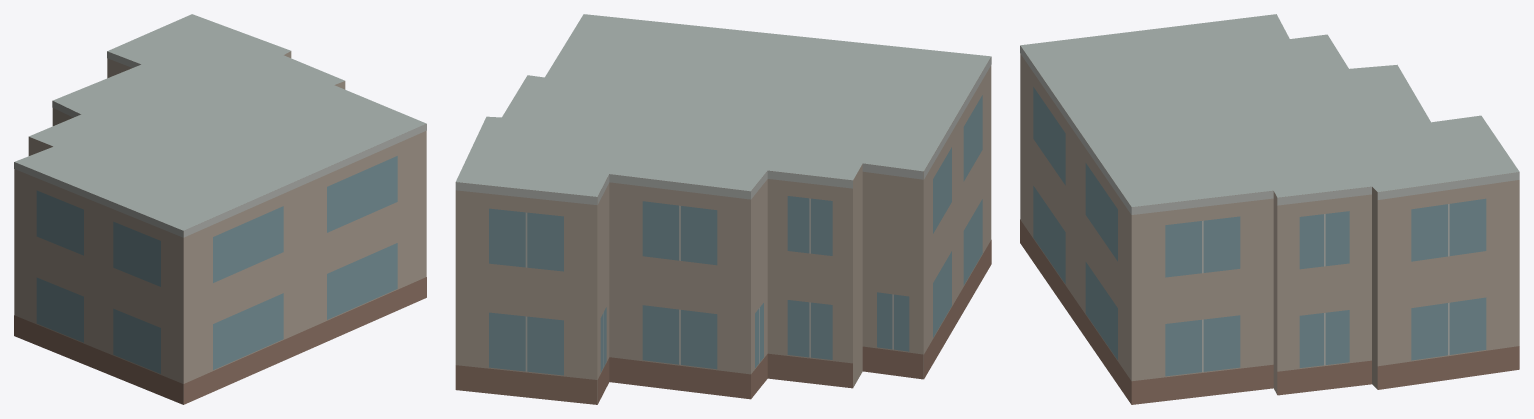
The model's file is survey-upis-32509038.glb.
3 renders of one model, left to right at view 1: azimuth 30°, elevation 25°; view 2: azimuth 150°, elevation 25°; view 3: azimuth 270°, elevation 25°, orthographic. The views are drawn at different scales.
Visible parts, largest first — view 1: survey-upis-32509038.tmp; view 2: survey-upis-32509038.tmp; view 3: survey-upis-32509038.tmp.
Boxes of the visible parts, x1,y1,x2,y2 form: survey-upis-32509038.tmp: (14,14,426,404); survey-upis-32509038.tmp: (455,14,991,404); survey-upis-32509038.tmp: (1020,14,1519,404).
Bounding box in the file's own units: 12.79 × 6.1 × 13.98.
